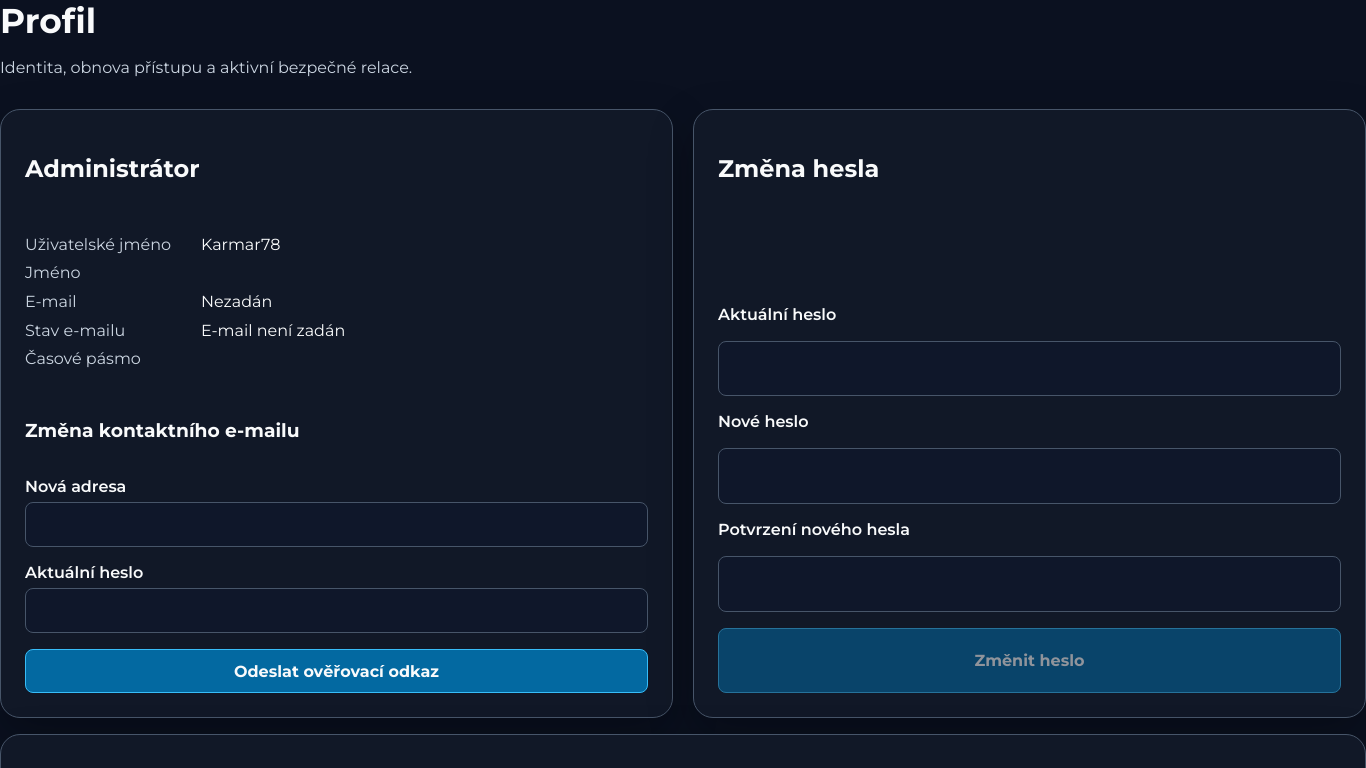
authenticated management screens › reports profile mutation failures and keeps the forms editable
expect the text "Karmar78" is shown: met, box [201,235,280,254]
Type "new@example.test" into the field labelled "Nová adresa".
click(336, 524); type("new@example.test")  # box [25,502,648,547]
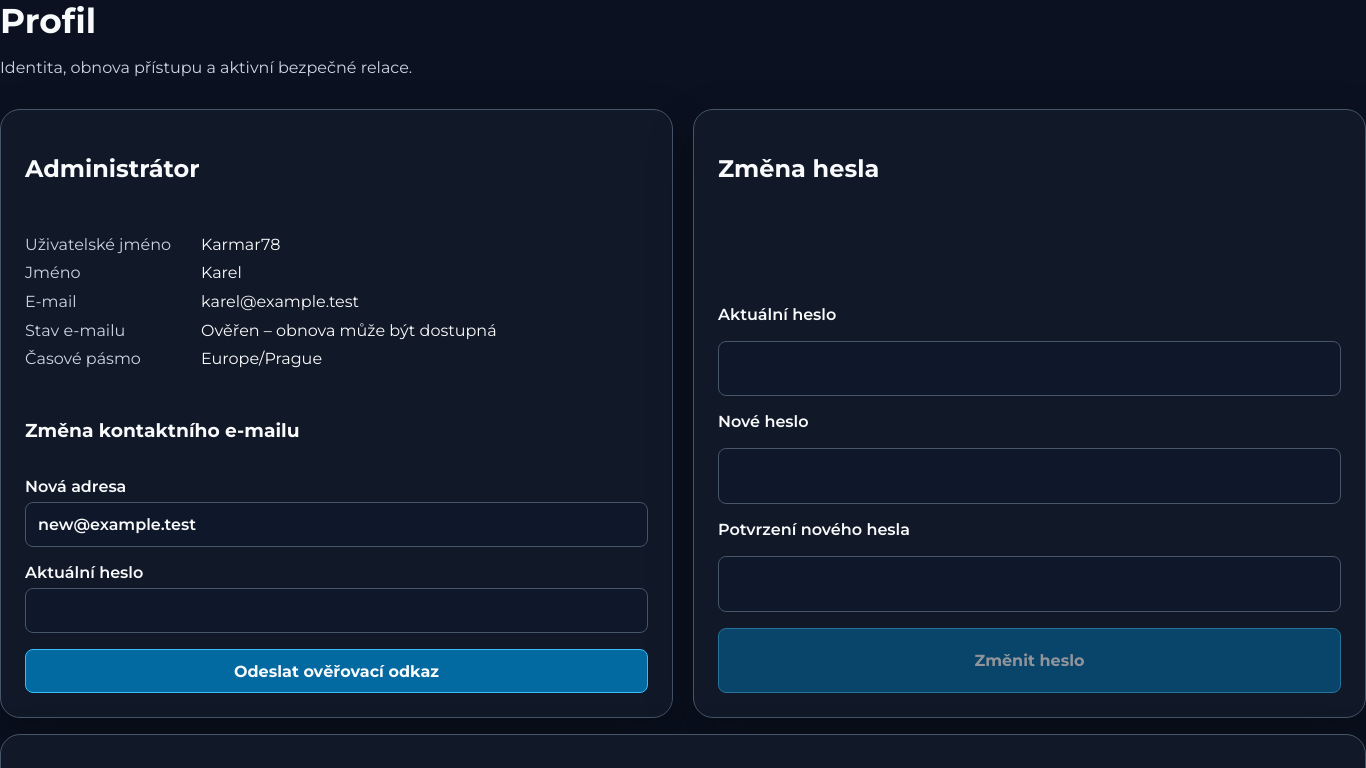
Type "current-password" into the password field labelled "Aktuální heslo" below "Nová adresa".
click(336, 611); type("current-password")  # box [25,588,648,633]
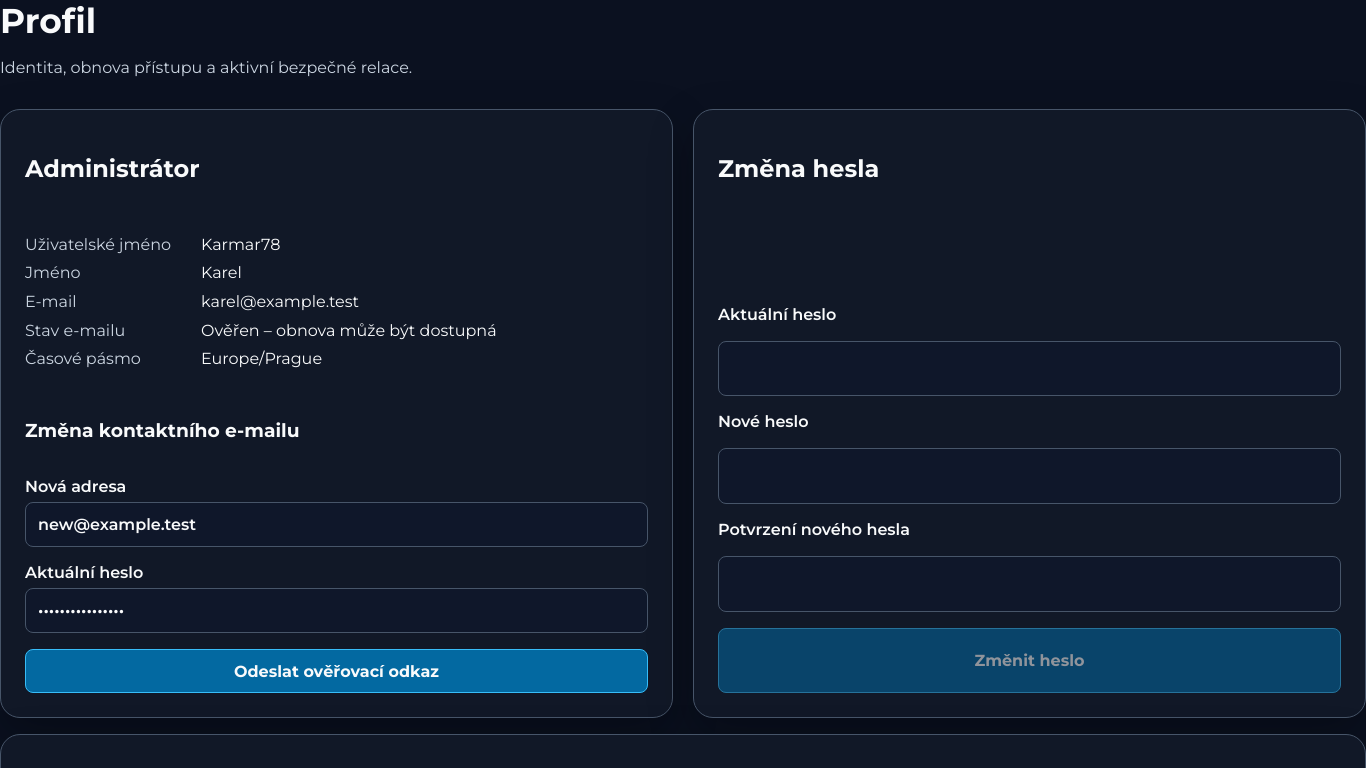
Submit the form "Odeslat ověřovací odkaz", box [25,400,648,693]
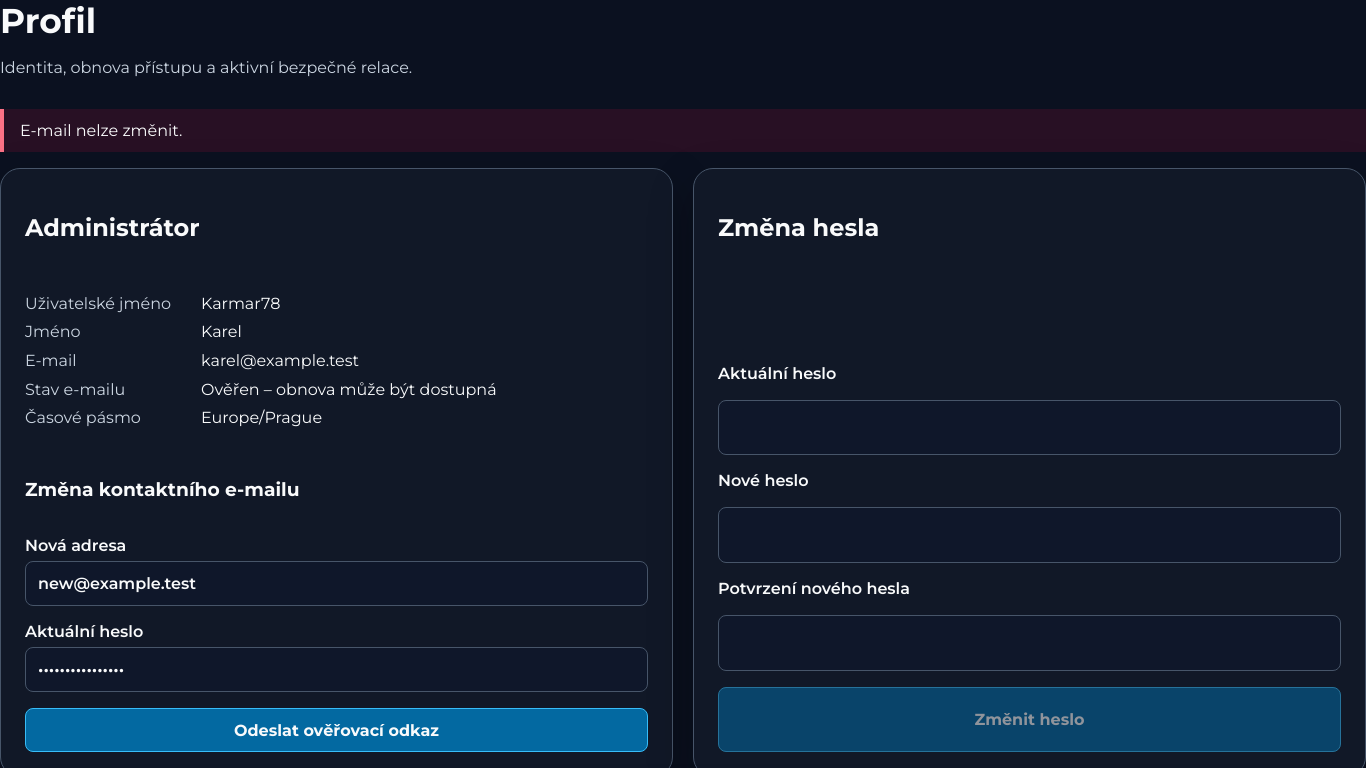
expect the message reads "E-mail nelze změnit.": met, box [20,121,182,140]
Type "current-password" into the password field labelled "Aktuální heslo" below "Změna hesla".
click(1030, 427); type("current-password")  # box [718,400,1341,455]
Type "nové velmi dlouhé heslo" into the password field labelled "Nové heslo".
click(1030, 535); type("nové velmi dlouhé heslo")  # box [718,507,1341,563]
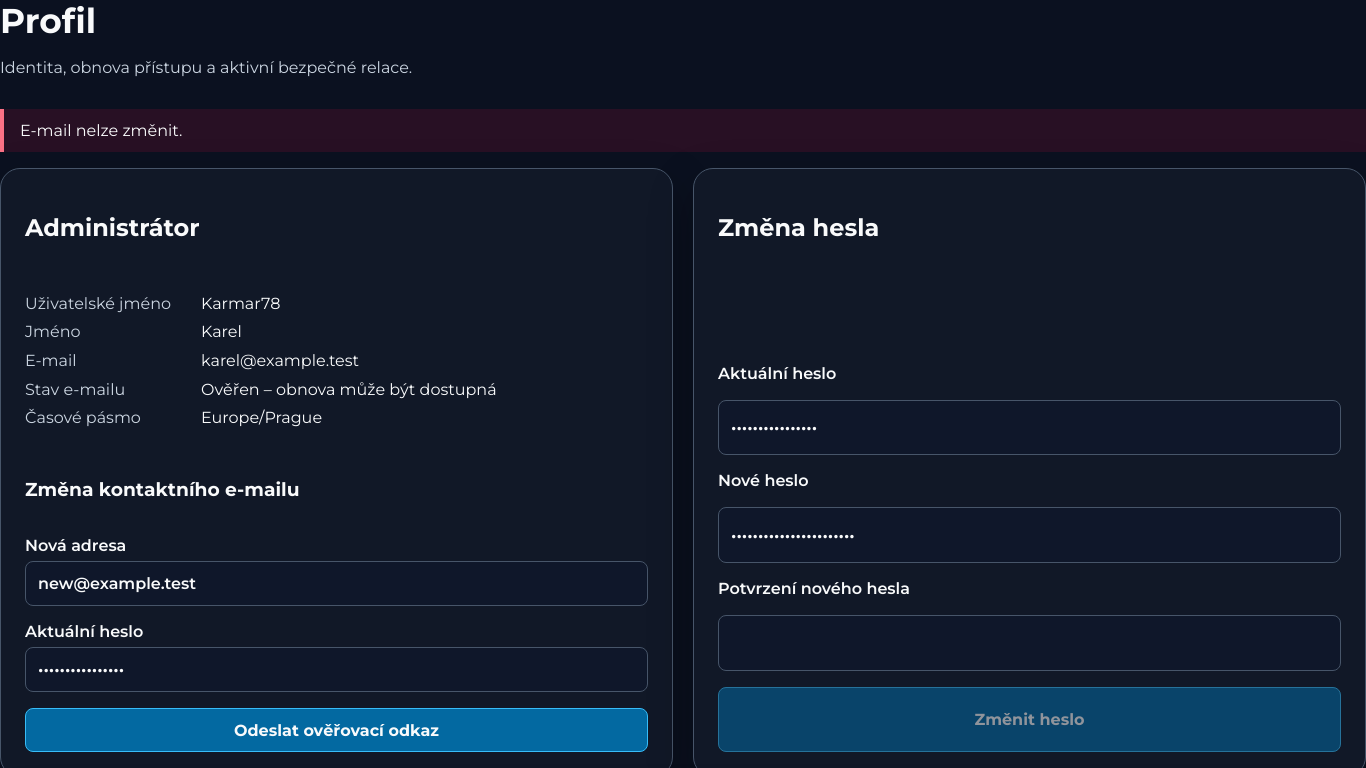
Type "nové velmi dlouhé heslo" into the password field labelled "Potvrzení nového hesla".
click(1030, 643); type("nové velmi dlouhé heslo")  # box [718,615,1341,671]
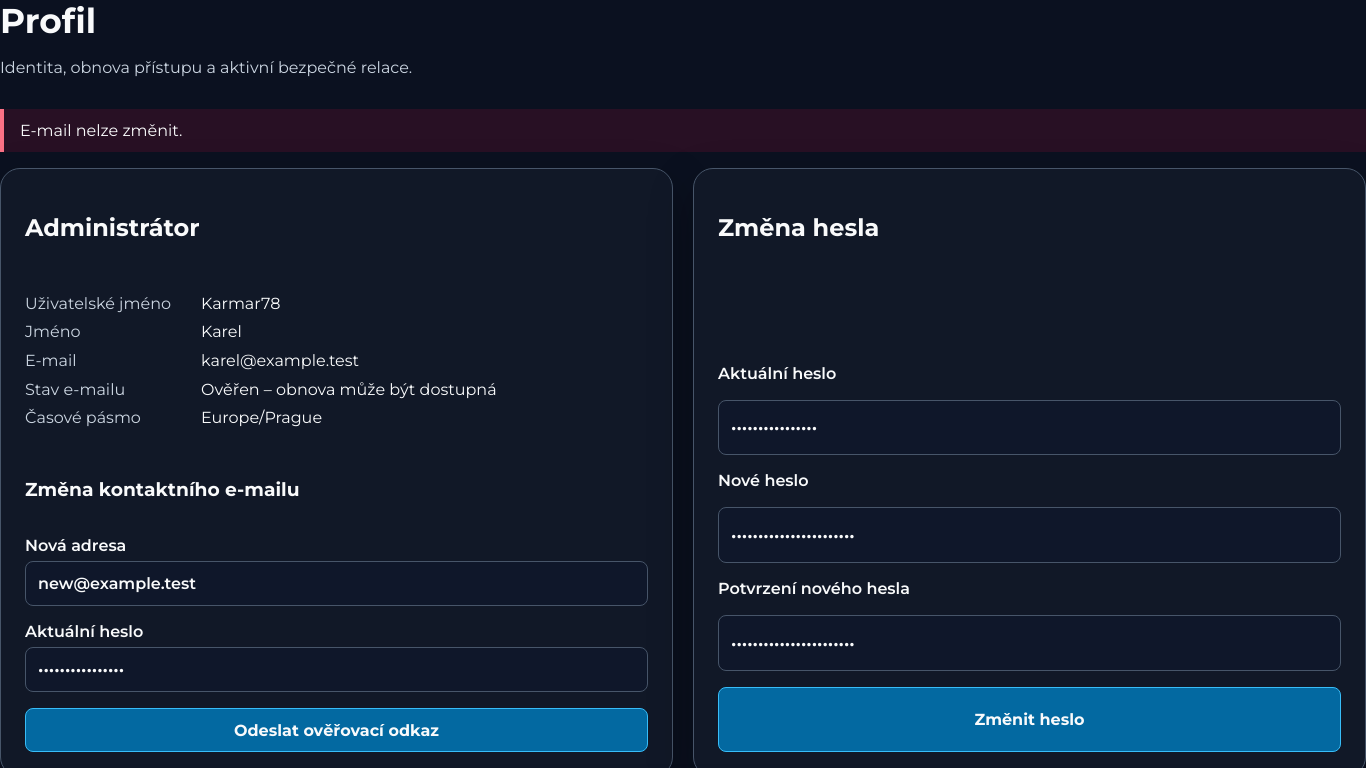
Click the button "Změnit heslo".
click(1030, 719)  # box [718,687,1341,752]
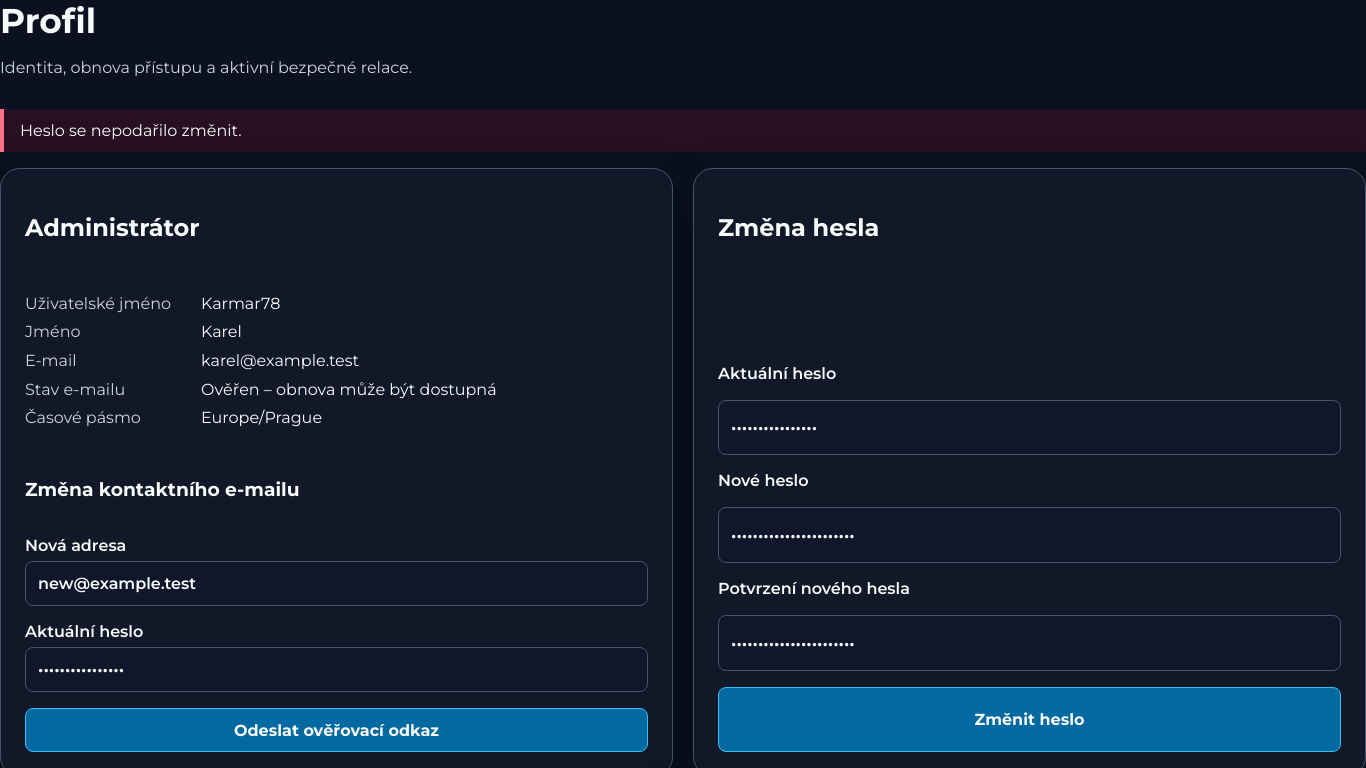
expect the message reads "Heslo se nepodařilo změnit.": met, box [20,121,242,140]
